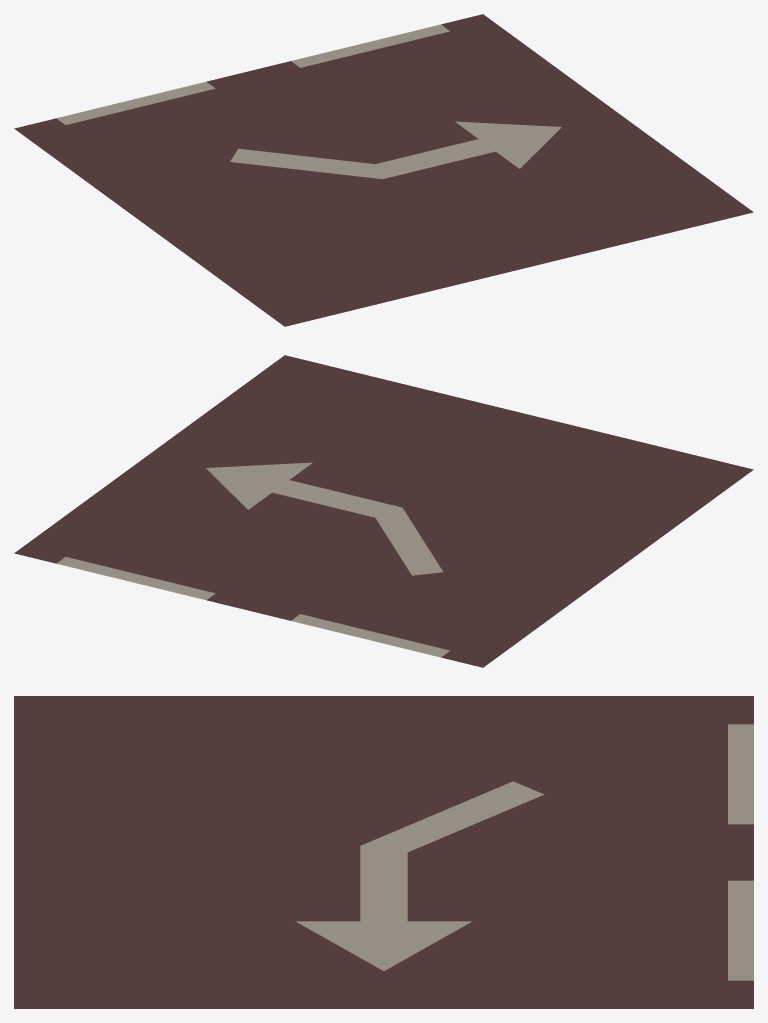
File: Road_5_Transition.fbx
3 renders of one model, top to bottom at view 1: azimuth 30°, elevation 25°; view 2: azimuth 150°, elevation 25°; view 3: azimuth 270°, elevation 25°, orthographic. The views are drawn at different scales.
Parts seen in each view (by area): view 1: Road_5_Transition; view 2: Road_5_Transition; view 3: Road_5_Transition.
Part boxes in pixels (x1,y1,x2,y2): Road_5_Transition: (14, 14, 753, 326); Road_5_Transition: (14, 355, 753, 667); Road_5_Transition: (14, 696, 753, 1008).
Bounding box in the file's own units: 5 × 6.66e-07 × 5.
